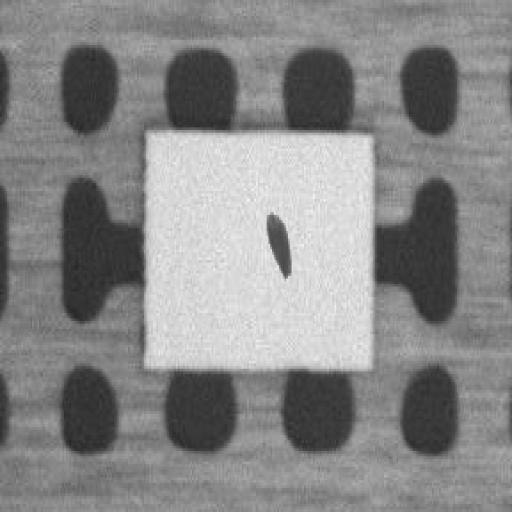DIE_INK: (262, 204, 294, 281)
